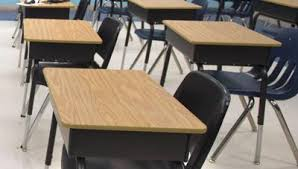desk: (161, 21, 282, 165), (41, 69, 207, 168), (126, 0, 201, 67), (29, 19, 102, 70)
